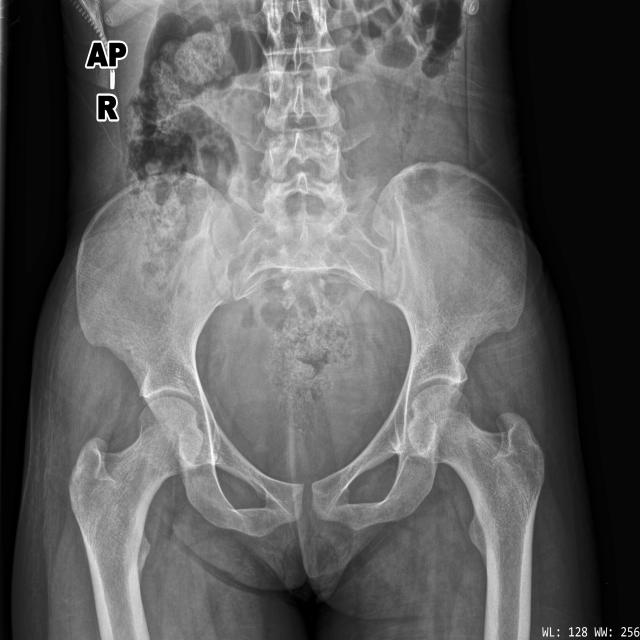normal-left: (408, 384, 545, 640)
normal-right: (68, 397, 204, 640)
